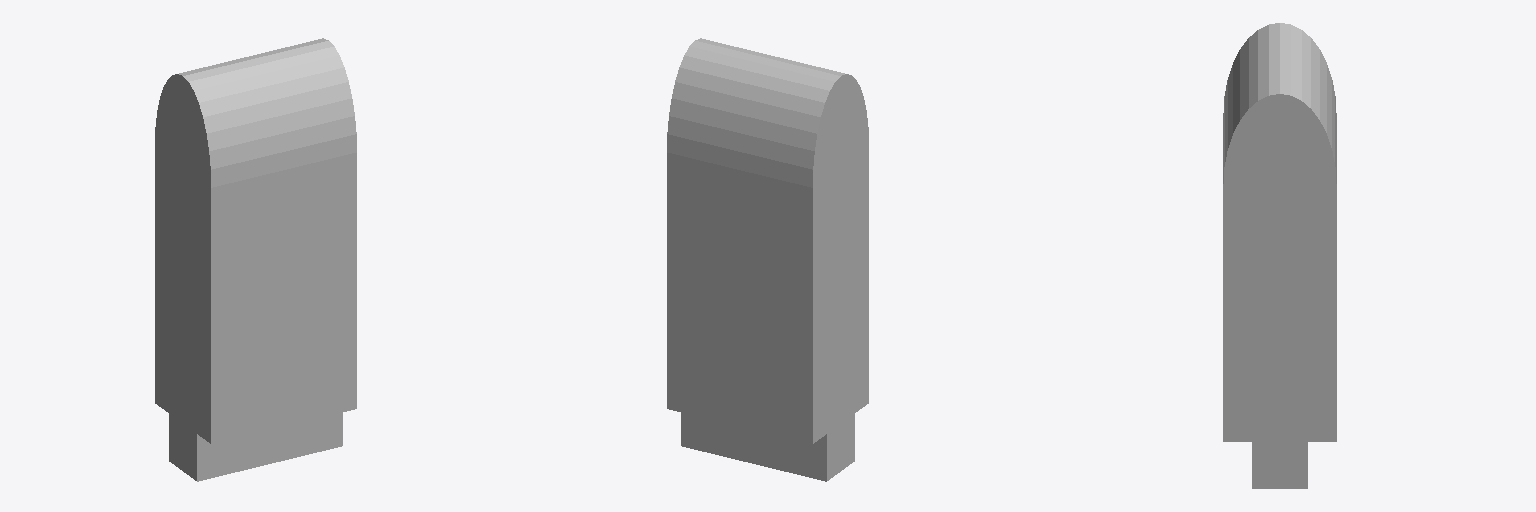
File: body_r_dist_pin2vround2.obj
The picture shows the model from 3 angles: view 1: azimuth 30°, elevation 25°; view 2: azimuth 150°, elevation 25°; view 3: azimuth 270°, elevation 25°; orthographic projection.
Parts seen in each view (by area): view 1: body_r_dist_pin2vround2_Cube.572; view 2: body_r_dist_pin2vround2_Cube.572; view 3: body_r_dist_pin2vround2_Cube.572.
Boxes of the visible parts, x1,y1,x2,y2 form: body_r_dist_pin2vround2_Cube.572: [155, 38, 356, 481]; body_r_dist_pin2vround2_Cube.572: [667, 38, 868, 481]; body_r_dist_pin2vround2_Cube.572: [1223, 23, 1336, 488].
Bounding box in the file's own units: 0.032 × 0.0829 × 0.0215.